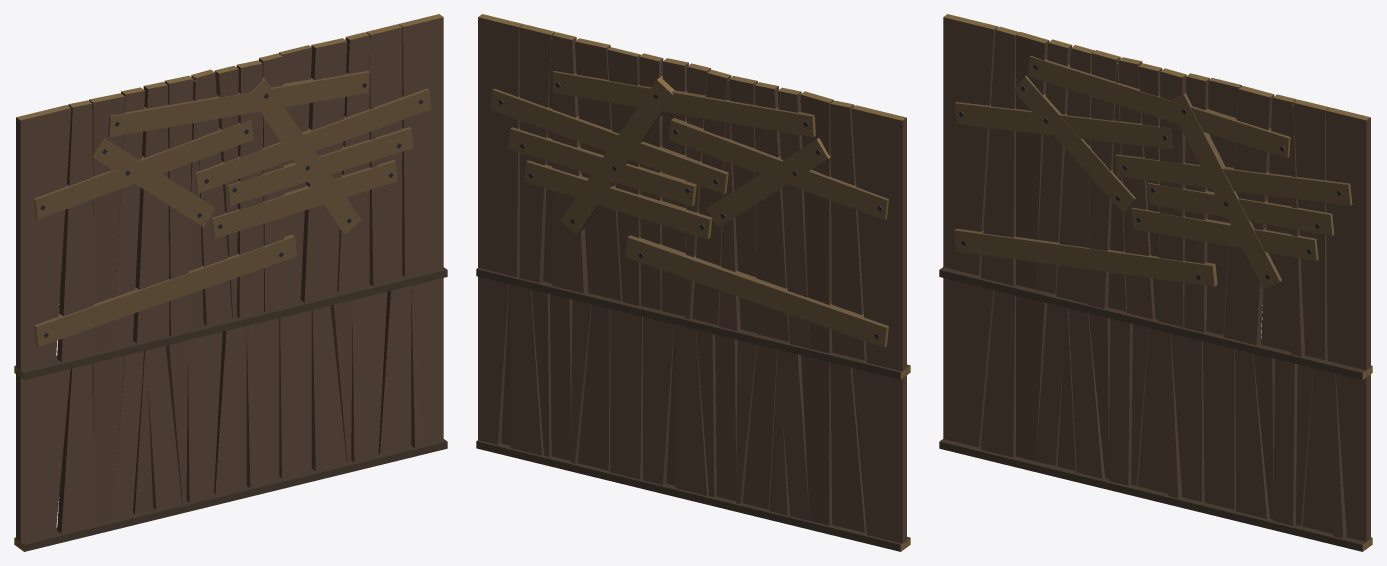
File: Wall_2A_6m.fbx
3 views of the same model, side by side, from view 1: azimuth 30°, elevation 25°; view 2: azimuth 150°, elevation 25°; view 3: azimuth 330°, elevation 25° (orthographic).
Parts seen in each view (by area): view 1: pCube2419; view 2: pCube2419; view 3: pCube2419.
Part boxes in pixels (x1=…): pCube2419: x1=14, y1=14, x2=447, y2=551; pCube2419: x1=476, y1=14, x2=910, y2=551; pCube2419: x1=939, y1=14, x2=1372, y2=551.
Bounding box in the file's own units: 600 × 581 × 26.82.
